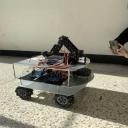cart: (11, 54, 95, 108)
